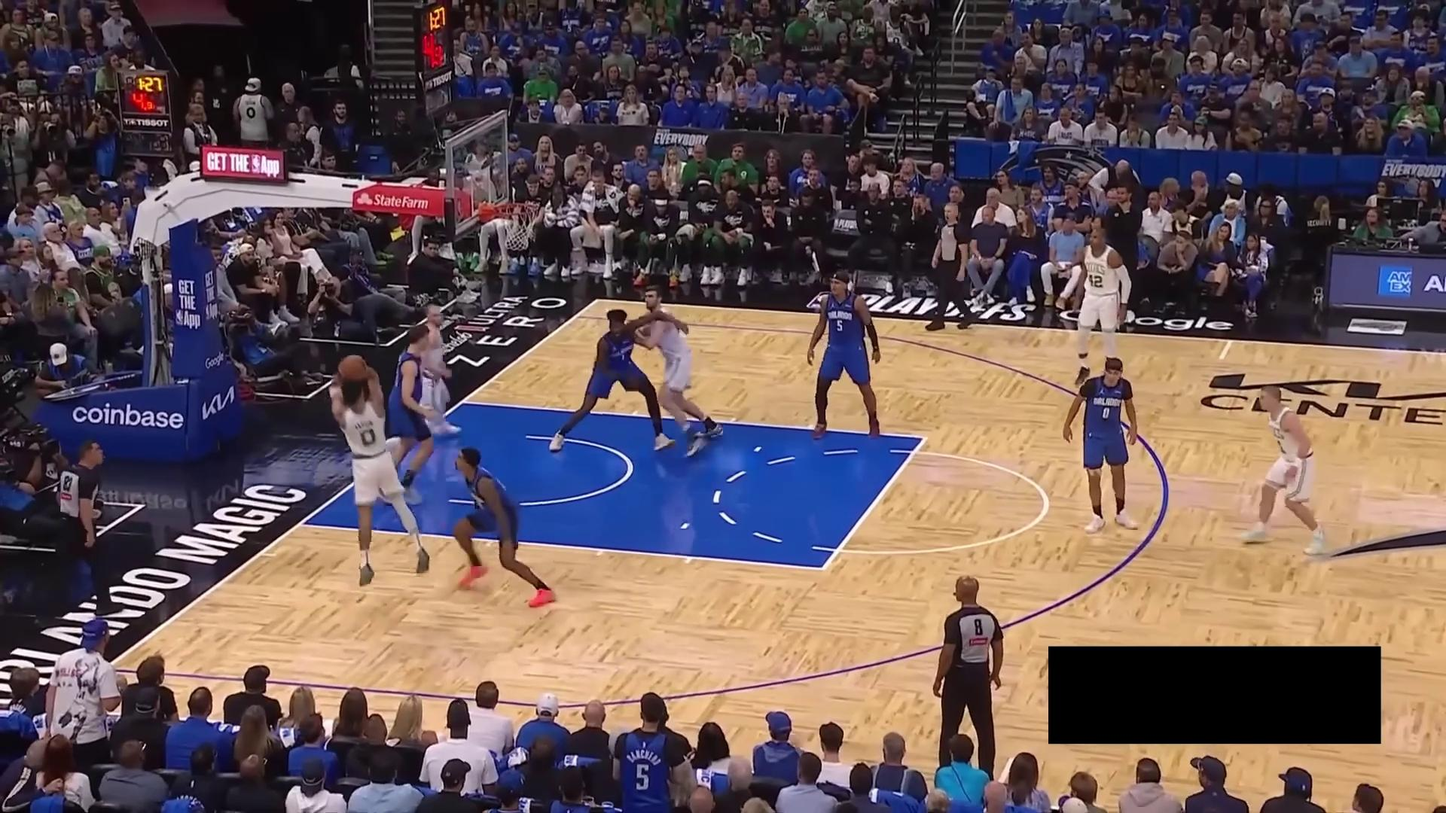ball: (336, 352, 368, 382)
number: (359, 425, 376, 447), (1089, 273, 1104, 289), (1101, 407, 1111, 420), (836, 318, 844, 331)
player: (549, 306, 694, 455), (450, 445, 563, 613), (632, 287, 723, 462), (1059, 354, 1145, 537), (1240, 384, 1328, 561), (805, 268, 884, 442), (1054, 222, 1135, 390), (378, 323, 447, 507), (408, 301, 468, 436)
player-jump-shot: (325, 348, 433, 587)
referee: (28, 439, 133, 618), (932, 574, 1006, 779), (923, 200, 976, 332)
rim: (491, 197, 541, 221)
